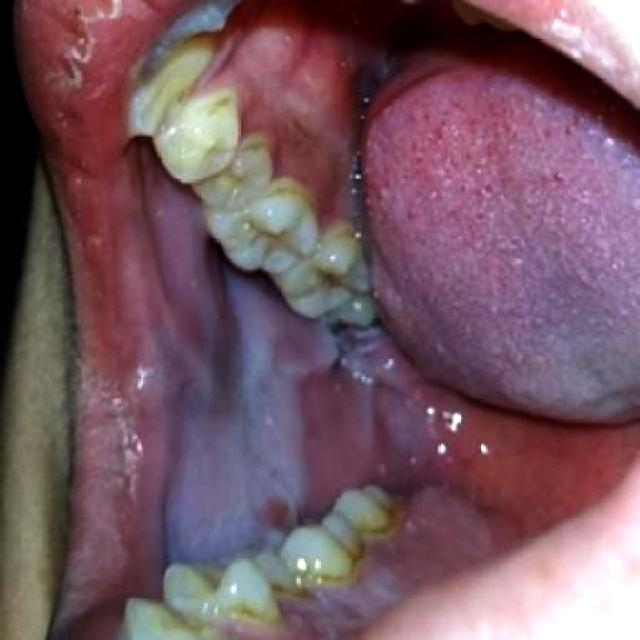Plaque: (242, 219, 292, 265), (326, 315, 383, 355), (311, 269, 354, 295)
